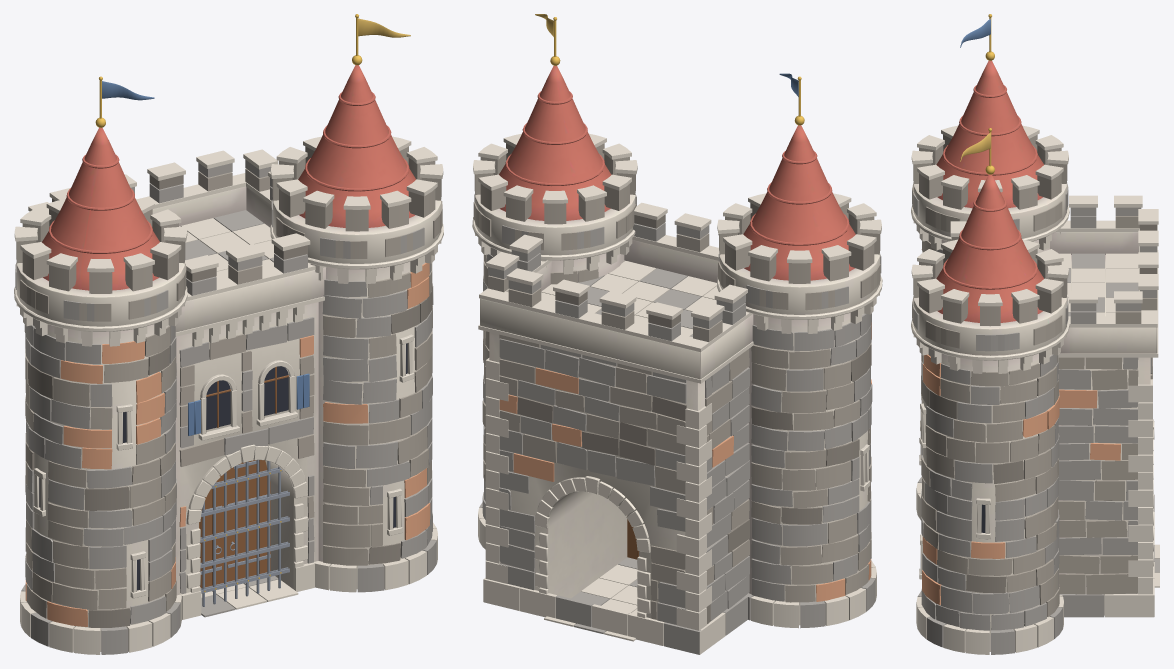
File: great-wall-gatehouse.glb
3 renders of one model, left to right at view 1: azimuth 30°, elevation 25°; view 2: azimuth 150°, elevation 25°; view 3: azimuth 270°, elevation 25°, orthographic. The views are drawn at different scales.
Visible parts, largest first — view 1: gatehouse_stonework, gatehouse_body, gatehouse_masonry, gatehouse_details, gatehouse_trim, gatehouse_portcullis, gatehouse_gate_right, gatehouse_gate_left; view 2: gatehouse_stonework, gatehouse_masonry, gatehouse_body, gatehouse_trim, gatehouse_details; view 3: gatehouse_stonework, gatehouse_masonry, gatehouse_body, gatehouse_trim, gatehouse_details.
Part boxes in pixels (x1,y1,x2,y2): gatehouse_stonework: [24, 262, 433, 627]; gatehouse_body: [16, 65, 441, 651]; gatehouse_masonry: [14, 136, 443, 654]; gatehouse_details: [33, 334, 414, 598]; gatehouse_trim: [14, 14, 443, 331]; gatehouse_portcullis: [199, 460, 289, 606]; gatehouse_gate_right: [226, 460, 270, 581]; gatehouse_gate_left: [199, 474, 223, 588]; gatehouse_stonework: [482, 254, 872, 624]; gatehouse_masonry: [473, 133, 881, 654]; gatehouse_body: [475, 65, 879, 625]; gatehouse_trim: [472, 14, 882, 319]; gatehouse_details: [535, 444, 870, 618]; gatehouse_stonework: [921, 240, 1152, 630]; gatehouse_masonry: [911, 125, 1159, 654]; gatehouse_body: [913, 60, 1157, 651]; gatehouse_trim: [911, 14, 1069, 360]; gatehouse_details: [919, 403, 1154, 579].
Bounding box in the file's own units: 13.34 × 17.04 × 7.76.
14 materials, 1 textured.
